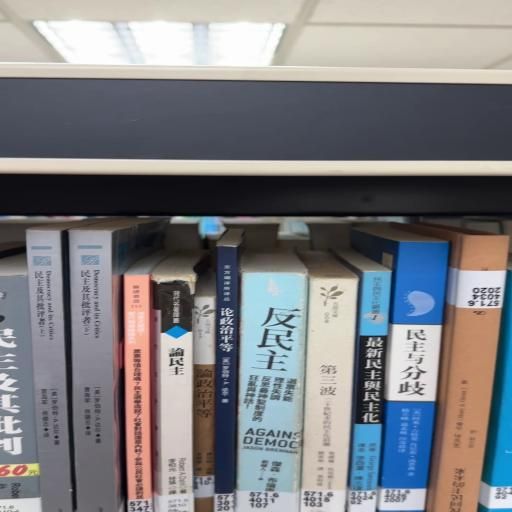reverse: (399, 222, 508, 512)
